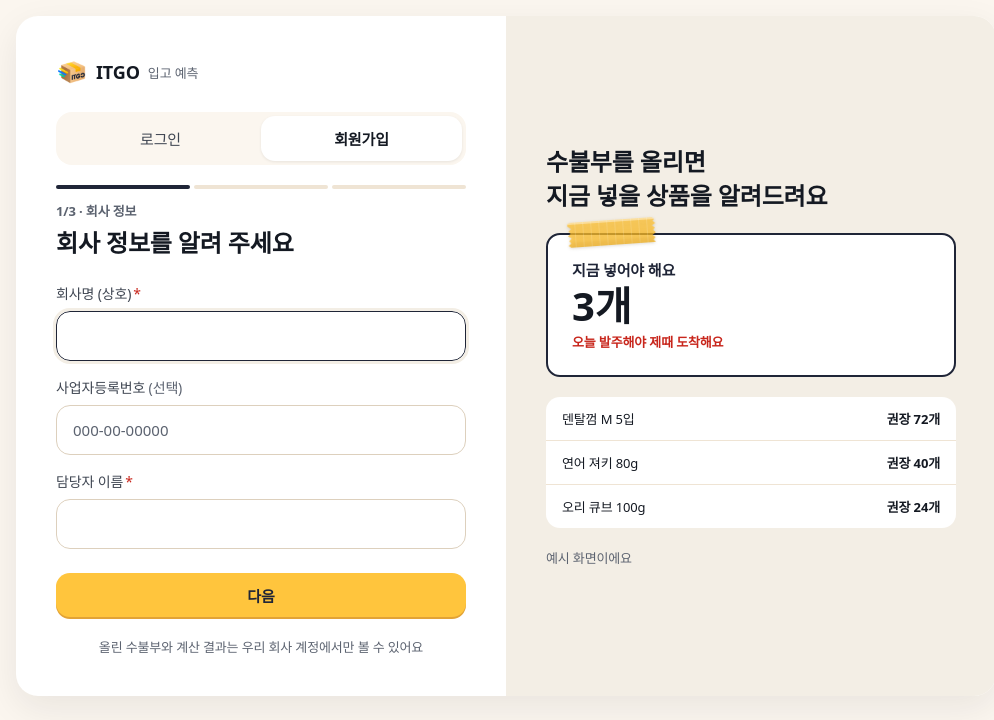
it: SignUpPage › 틀린 코드나 시간 초과 뒤에도 다시 보내기를 눌러 새 타이머를 시작할 수 있다
In the field labelled "회사명 (상호)": (261, 336) [56, 311, 466, 361], type "다음스낵"
In the field labelled "담당자 이름": (261, 524) [56, 499, 466, 549], type "김담당"
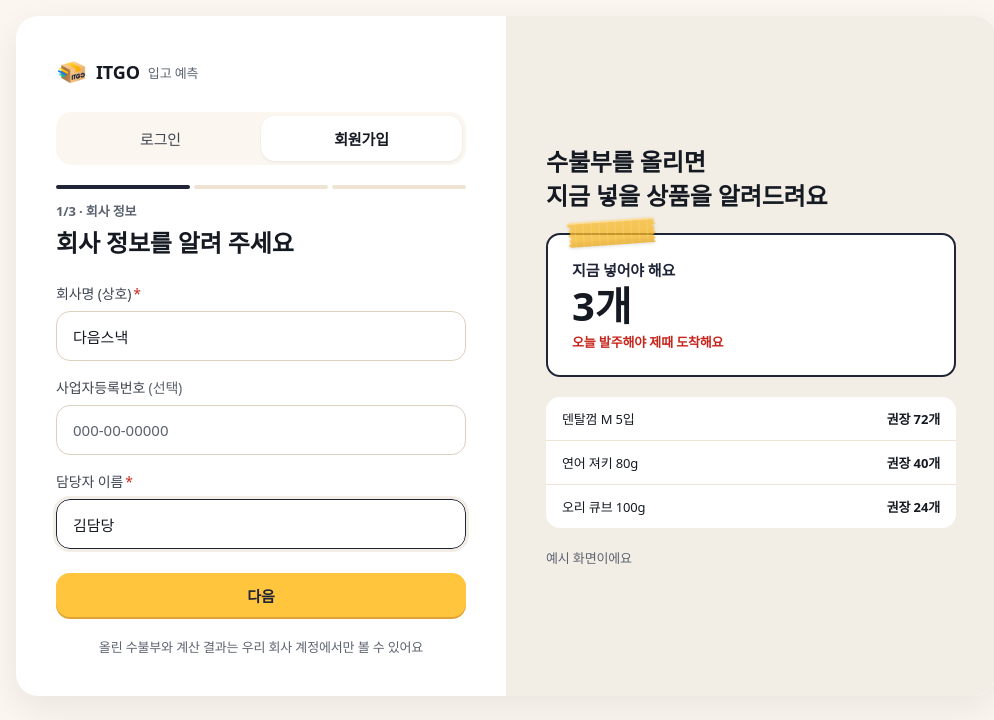
Click the button "다음": (261, 595) [56, 573, 466, 617]
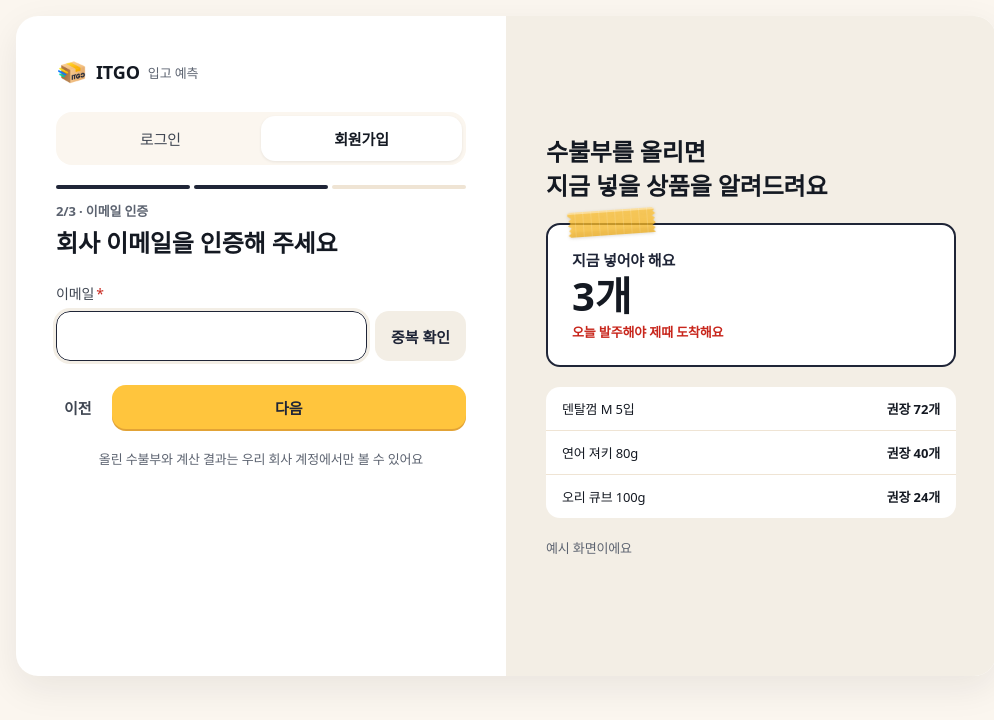
In the field labelled "이메일": (211, 336) [56, 311, 367, 361], type "new@b.com"
Click the button "중복 확인": (420, 336) [375, 311, 466, 361]
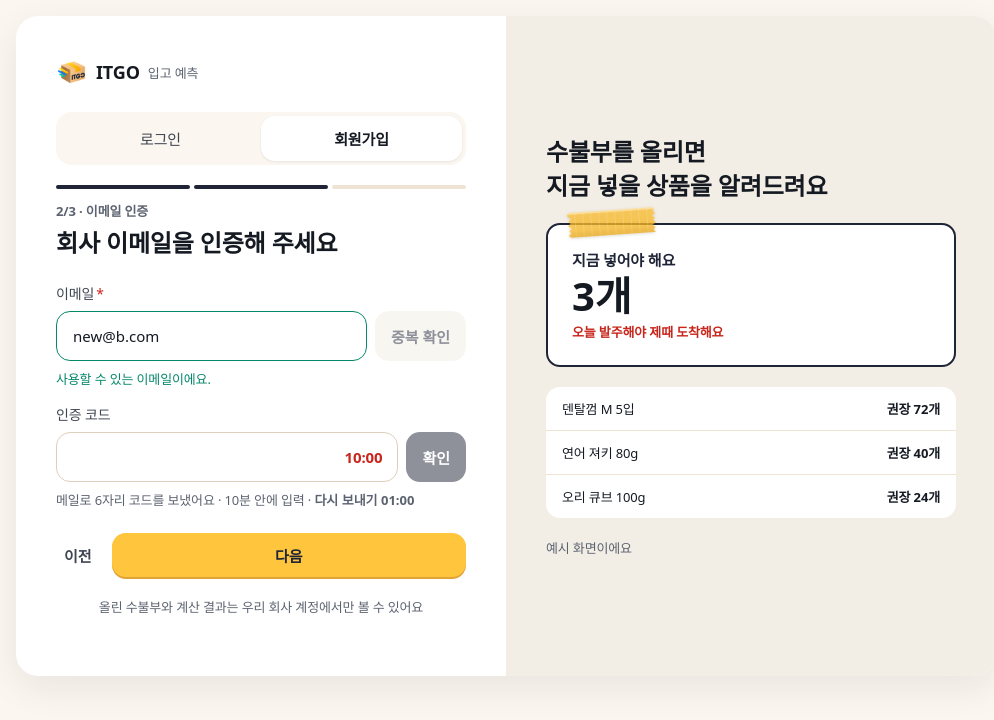
In the field labelled "인증 코드": (227, 457) [56, 432, 398, 482], type "000000"
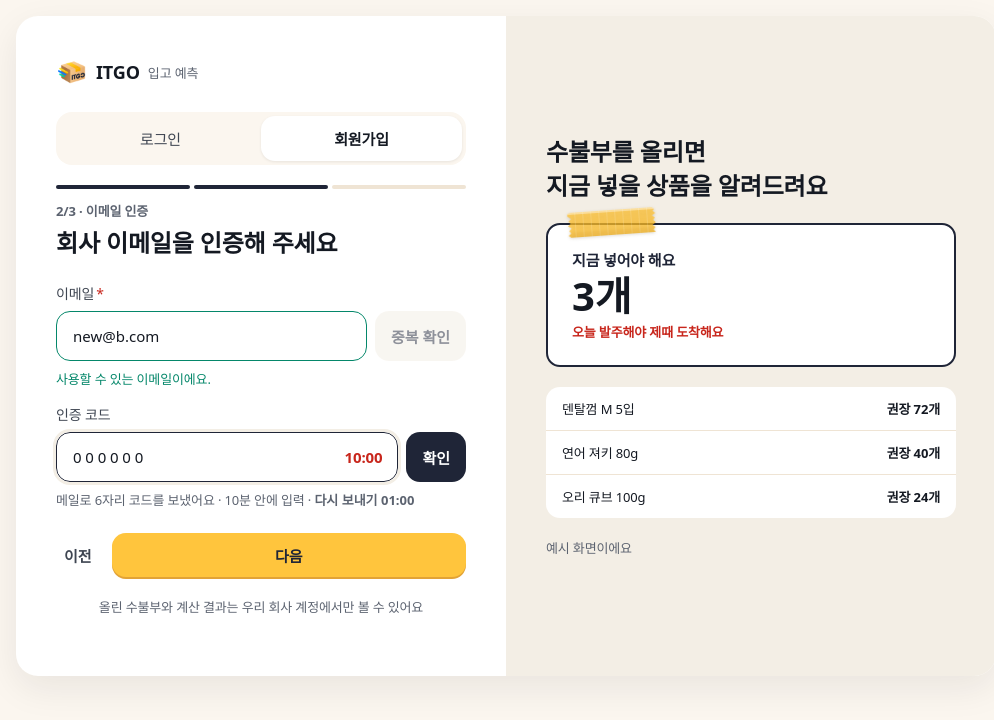
Click the button "확인": (436, 457) [406, 432, 466, 482]
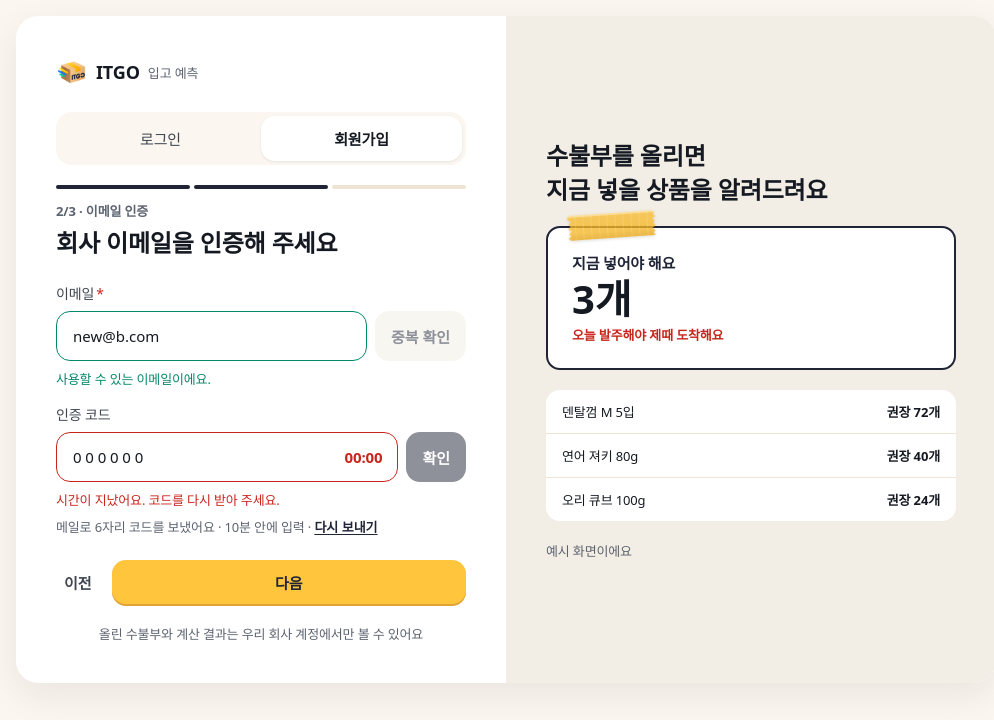
Now the button "다시 보내기" is shown
Now the text "시간이 지났어요. 코드를 다시 받아 주세요." is shown, box [56, 491, 280, 509]
Now the button "확인" is disabled, box [406, 432, 466, 482]
Click the button "다시 보내기": (346, 526) [314, 517, 378, 536]
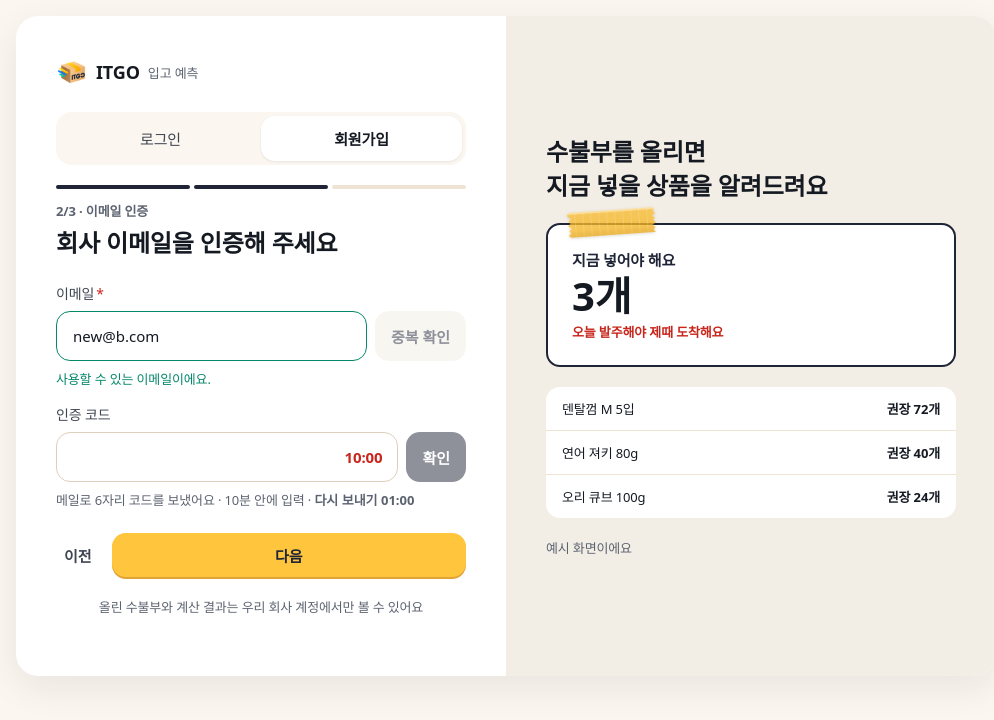
Now the text "시간이 지났어요. 코드를 다시 받아 주세요." is gone
Now the text named "남은 시간" reads "10:00", box [344, 447, 382, 467]
